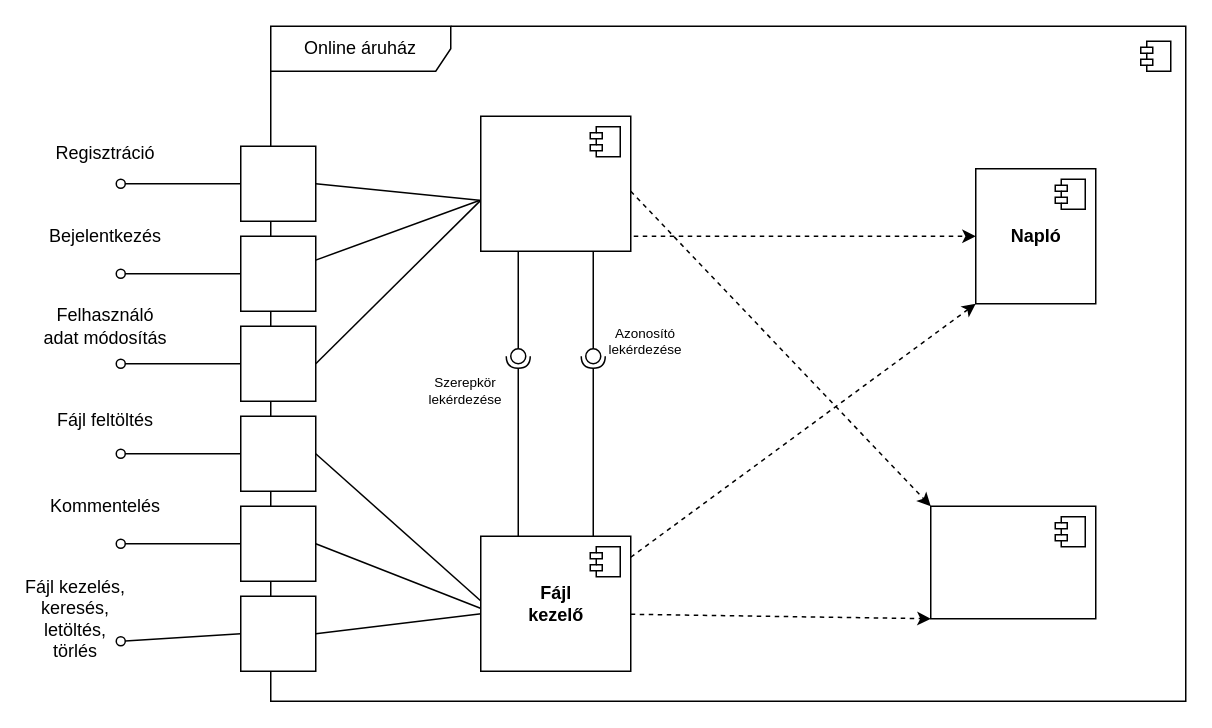
The diagram is 1212 pixels wide and 728 high, and some of its shapes have lost their labels. Here are the shapes that lost their labels. From the top down, the centre of each, then its label:
the point at 555,183: Felhasználó kezelő
the point at 1012,562: Adatbázis
